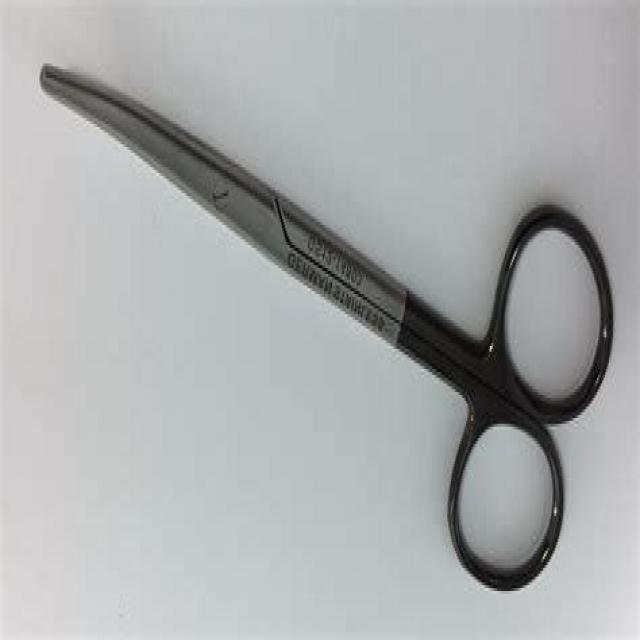Mayo_metz: (35, 54, 620, 608)
